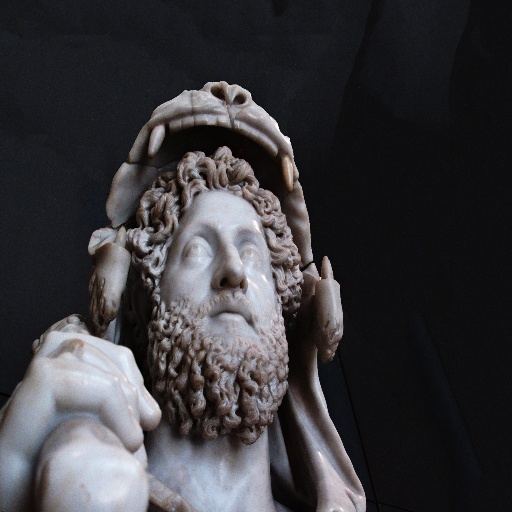hand: (3, 307, 164, 493)
